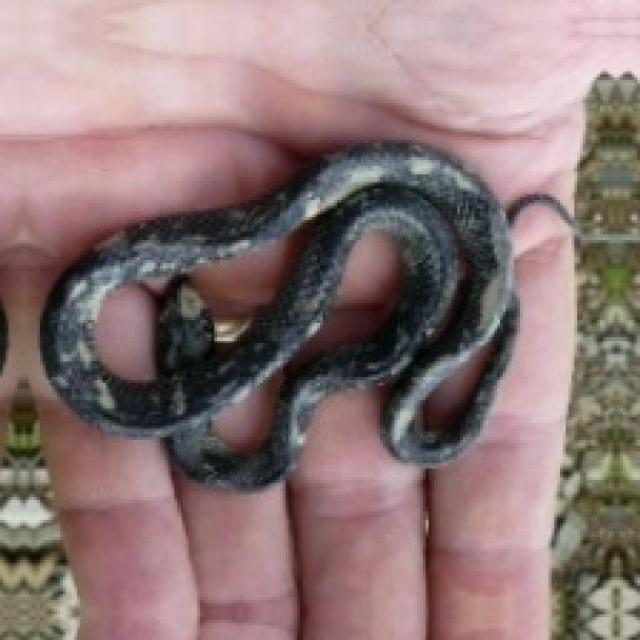gunthers philippine shrub snake: (40, 143, 569, 486), (291, 229, 403, 366), (191, 234, 297, 323)
